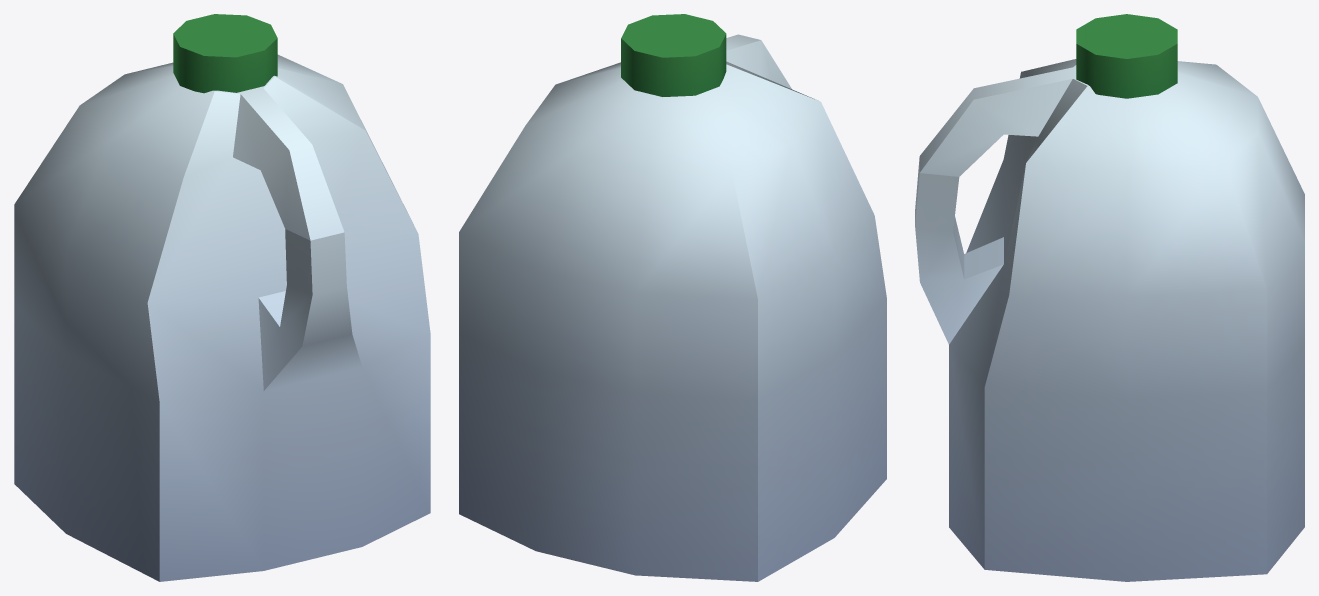
The model's file is Milk2.fbx.
3 views of the same model, side by side, from view 1: azimuth 30°, elevation 25°; view 2: azimuth 150°, elevation 25°; view 3: azimuth 270°, elevation 25° (orthographic).
Visible parts, largest first — view 1: Milk2; view 2: Milk2; view 3: Milk2.
Part boxes in pixels (left/top/right/bottom): Milk2: left=14, top=14, right=430, bottom=581; Milk2: left=459, top=14, right=886, bottom=581; Milk2: left=915, top=14, right=1304, bottom=581.
Size of the model in its own units: 40 by 41.66 by 55.
